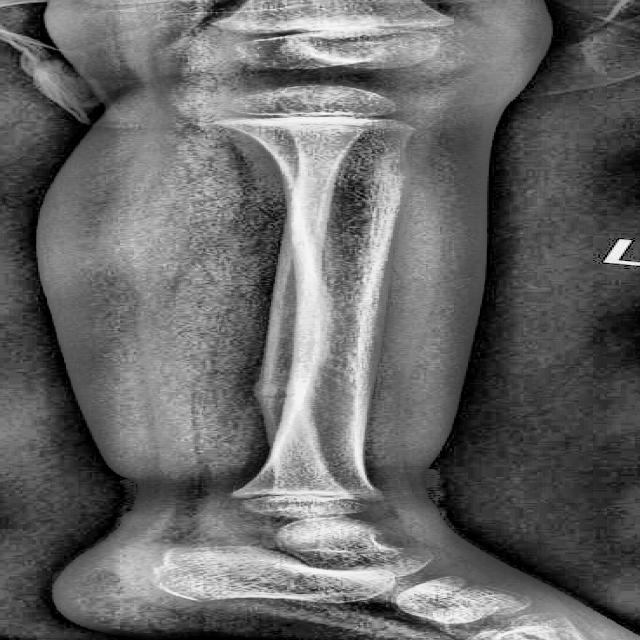line: (254, 391, 303, 401)
